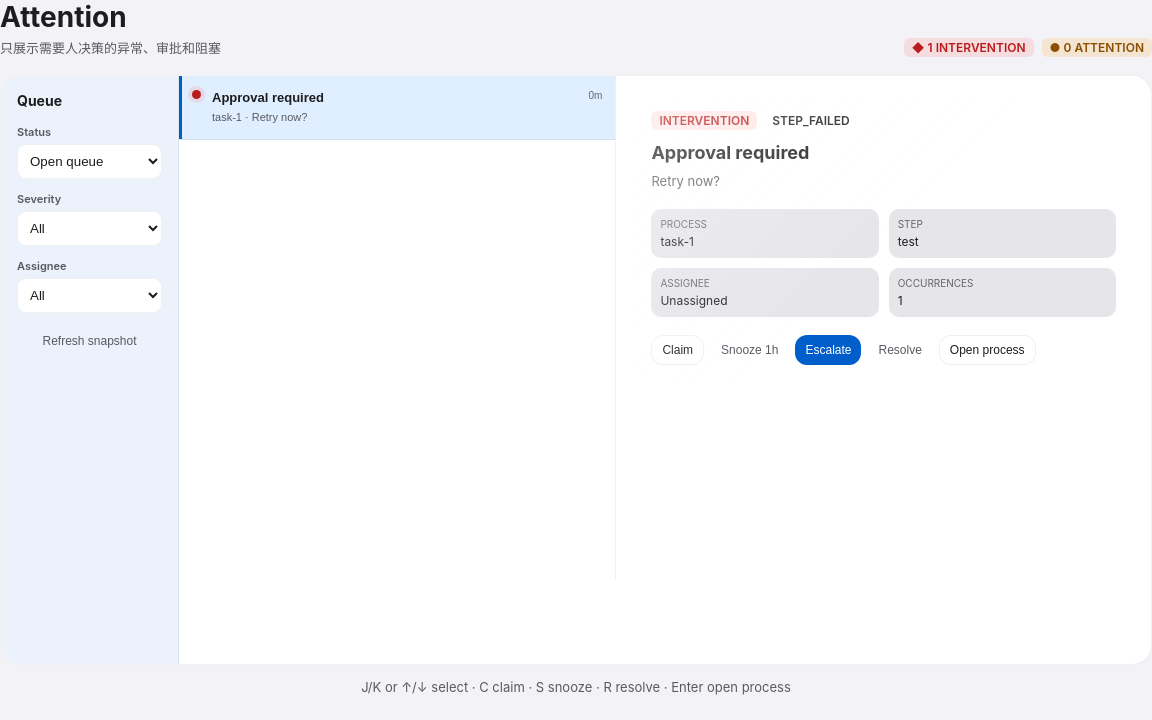
Scenario: AttentionInbox component › uses the shared failure/reconciliation contract for resolve
Expected: the text "Retry now?" is shown, 651,173 -> 720,189
Click the button "Resolve" at point(900, 350), box 868,335 -> 932,365
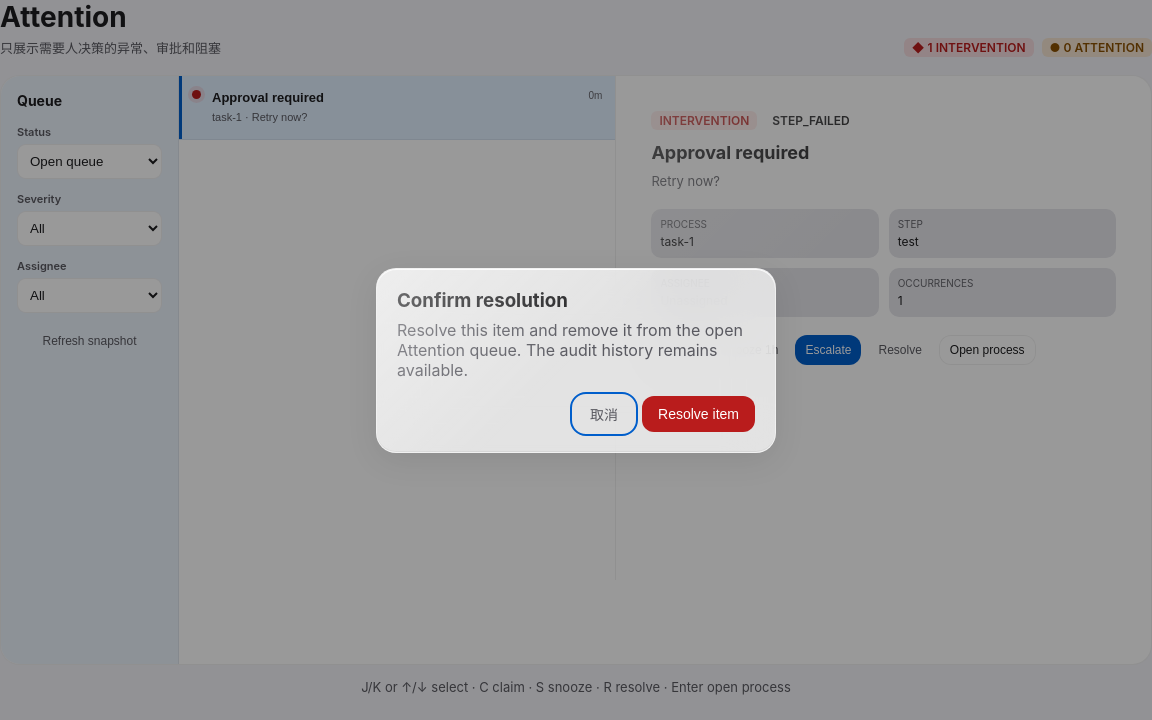
Click the button "Resolve item" at point(699, 414), box 642,396 -> 755,432
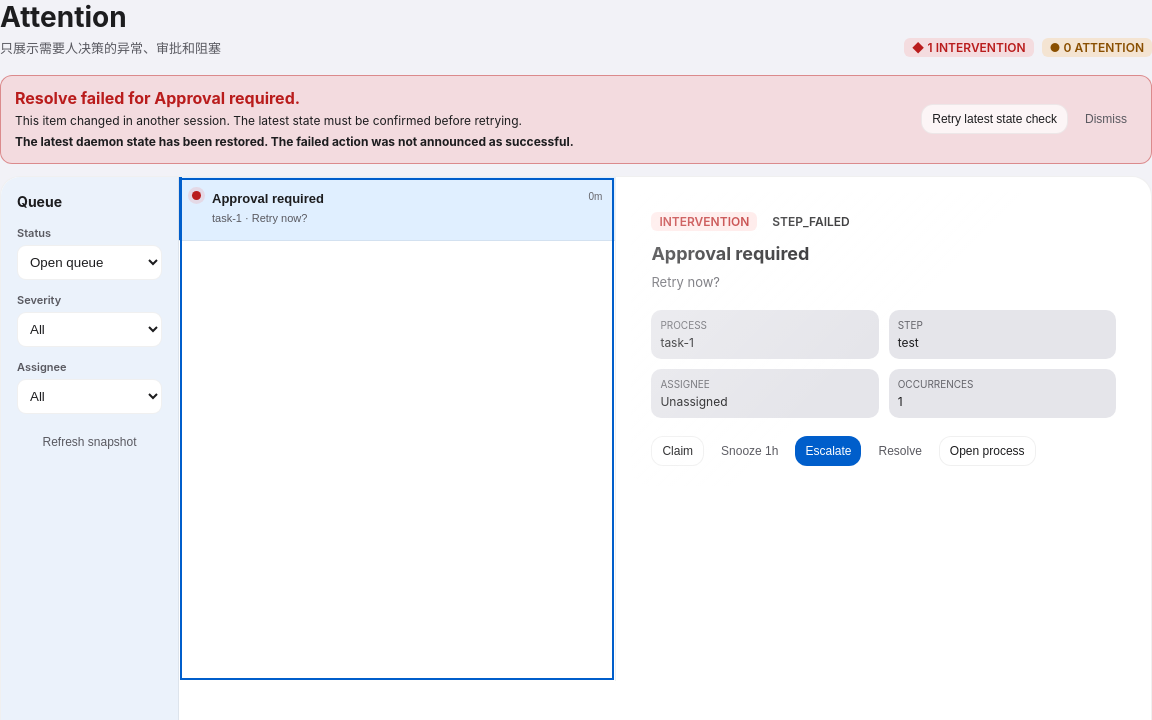
Result: the message shows "latest daemon state has been restored" at 15,134 -> 574,149
